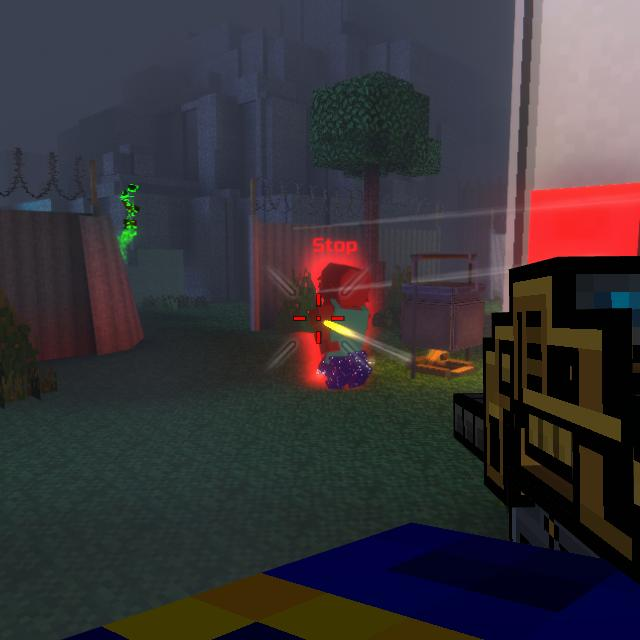Enemy: (308, 263, 371, 390)
